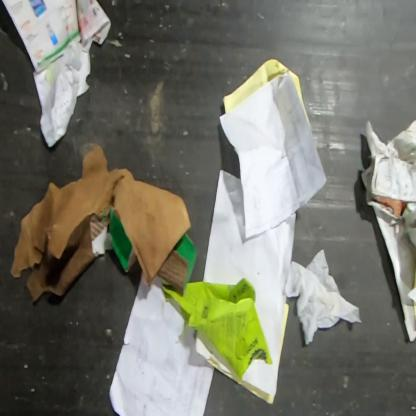cardboard: (9, 142, 199, 304)
